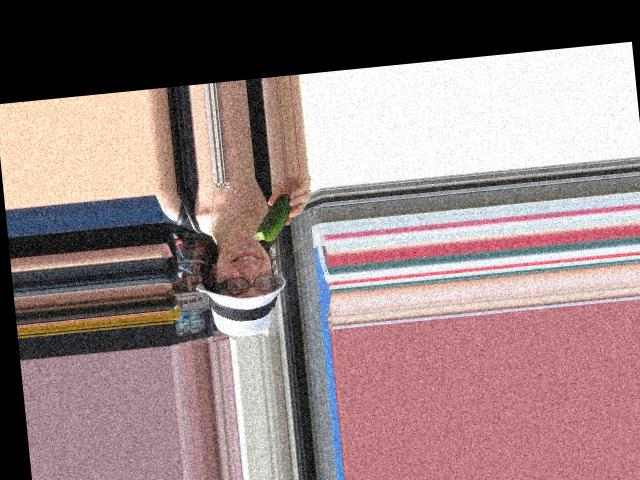cucumber: (251, 193, 295, 242)
